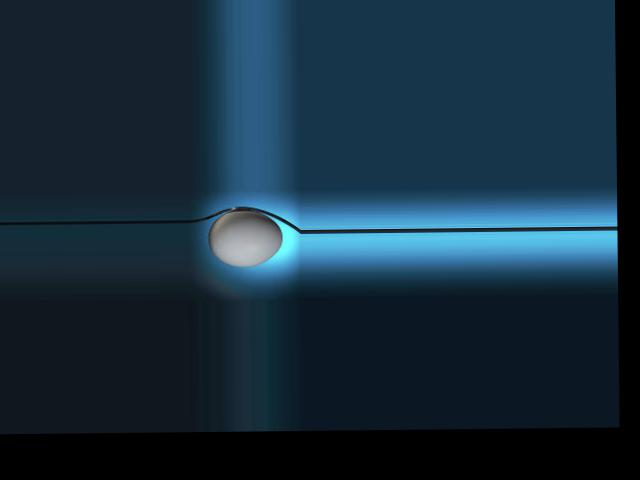egg: (207, 209, 282, 266)
